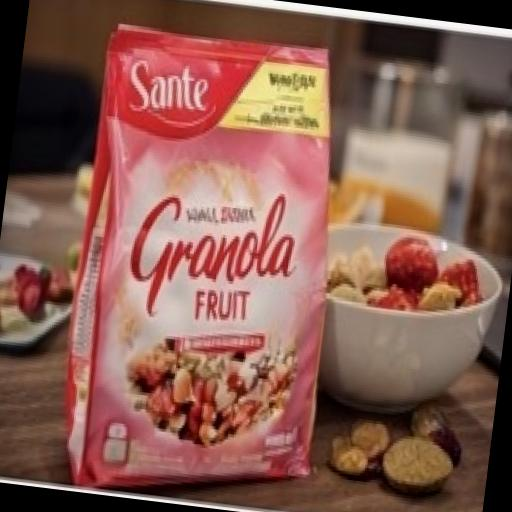granola: (25, 0, 359, 494)
